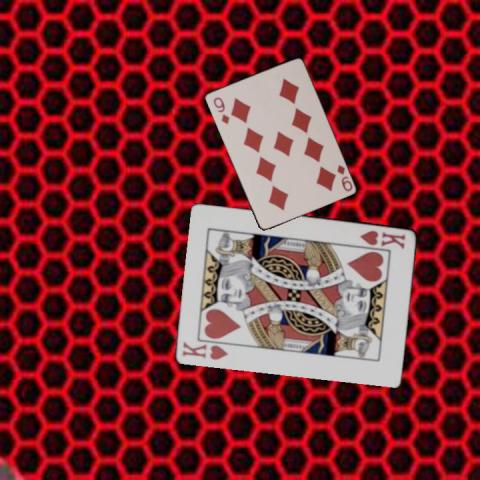9d: (210, 94, 231, 125), (334, 161, 353, 193)
Kh: (358, 227, 408, 250), (179, 339, 230, 361)
